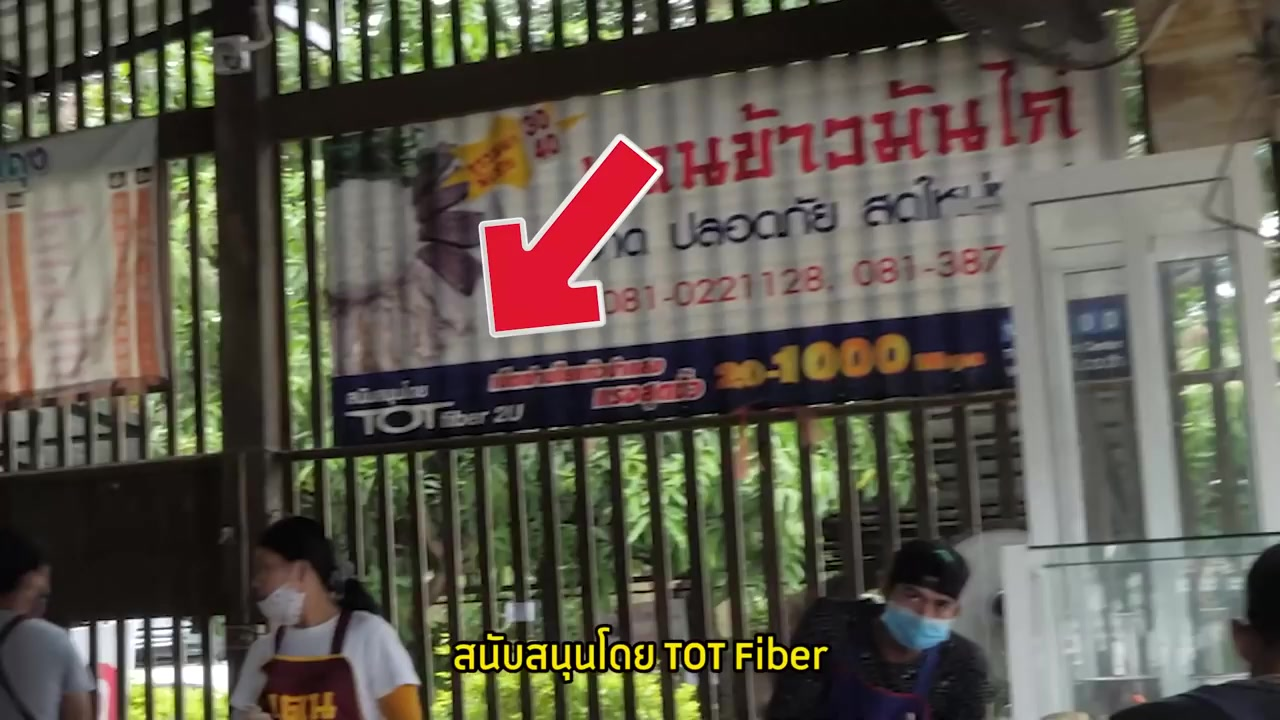text-label: (451, 622, 831, 682)
